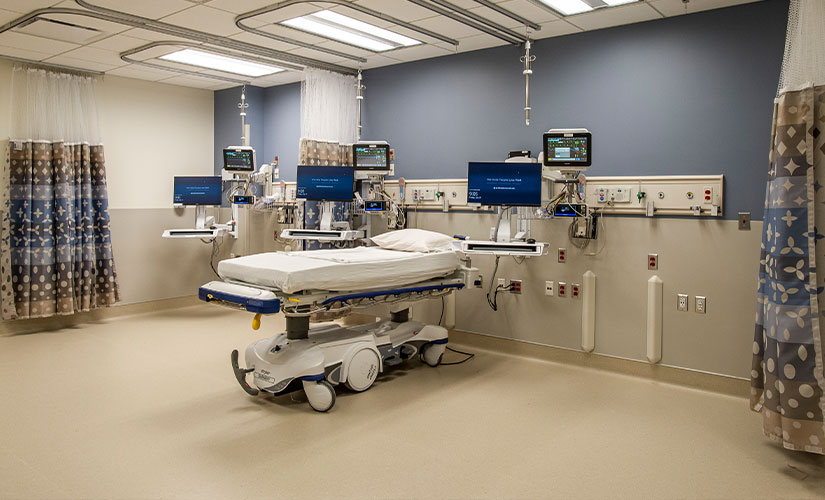bedside_monitor: (540, 126, 593, 186), (353, 141, 394, 183), (223, 144, 256, 181)
computer: (467, 161, 541, 207), (296, 163, 355, 202), (172, 175, 224, 207)
curtain: (748, 1, 825, 458), (1, 63, 122, 321), (300, 66, 361, 251)
iv_pole: (520, 26, 536, 126), (353, 59, 368, 141), (237, 81, 251, 145)
operating_bed: (198, 229, 483, 413)
